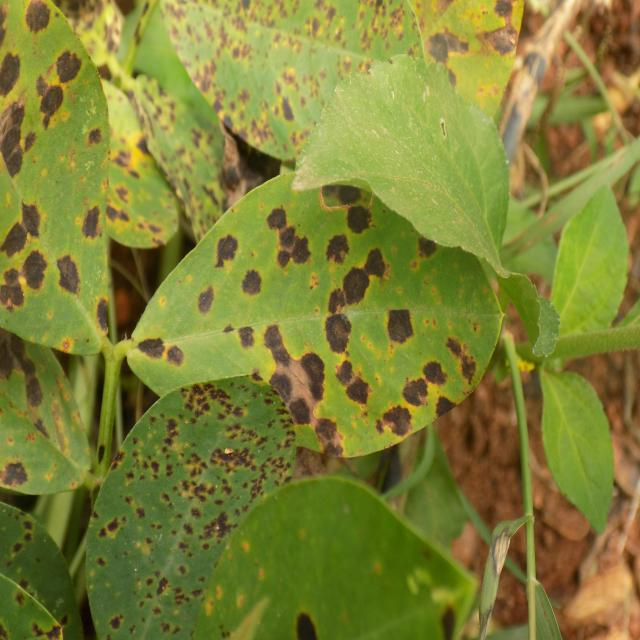Ground nut_tikka leaf spot: (108, 166, 504, 462), (84, 370, 300, 640)
